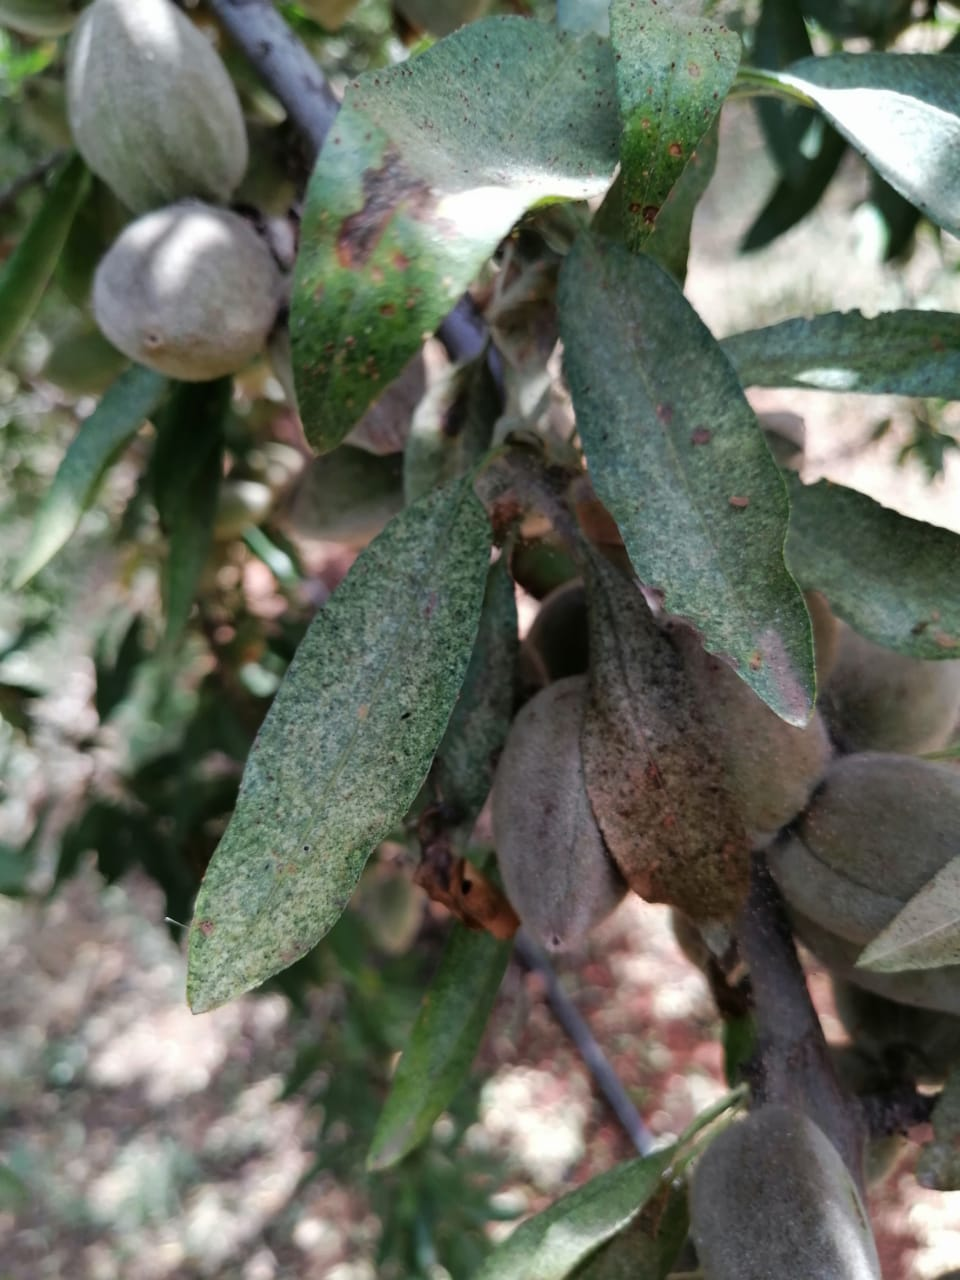acariens: (187, 473, 490, 1019), (560, 227, 819, 733), (609, 1, 742, 248)
